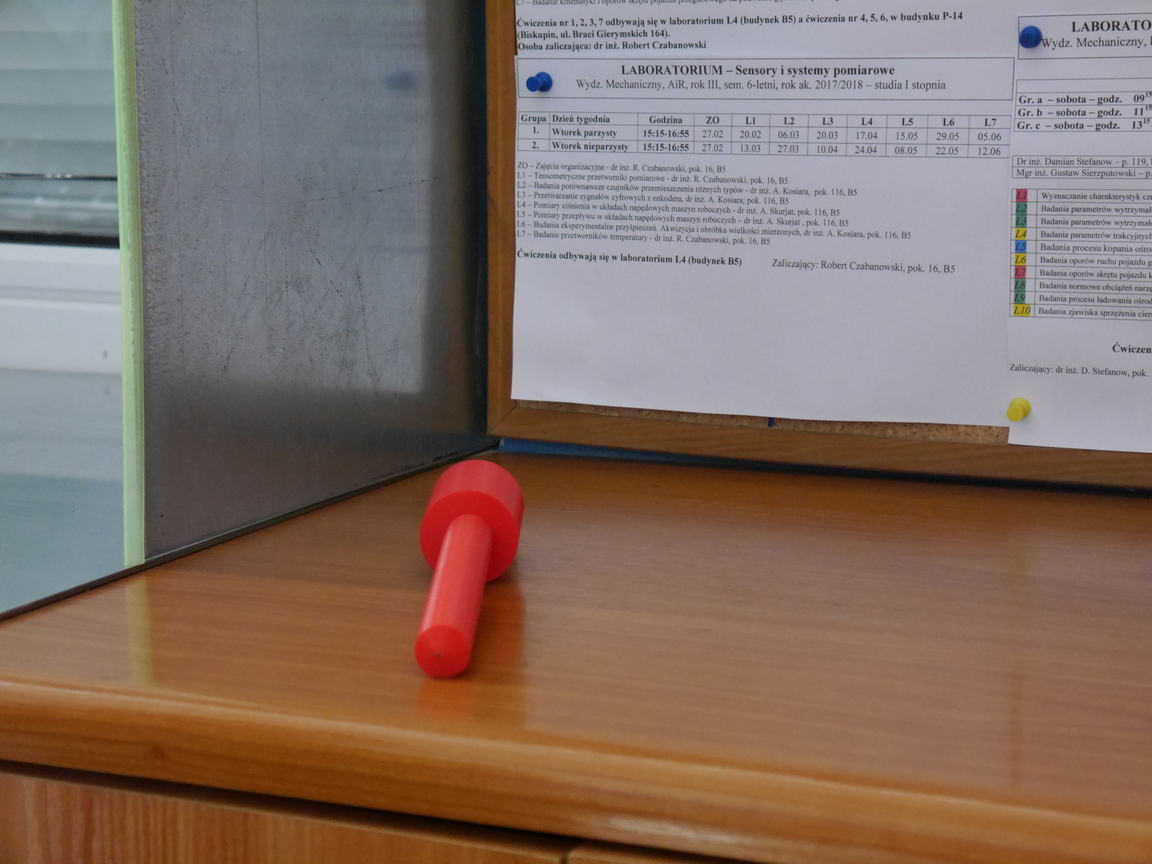cargo_g: (415, 459, 529, 682)
